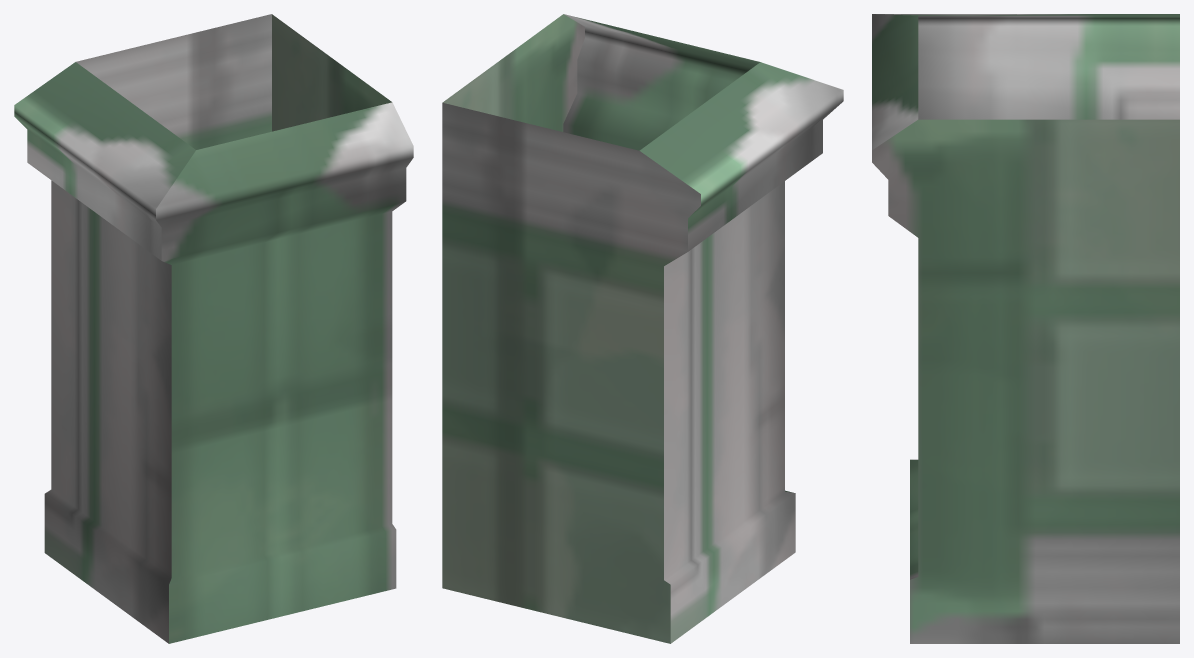
Rendered from qVin_Buld1_ColumnLeft.fbx.
3 renders of one model, left to right at view 1: azimuth 30°, elevation 25°; view 2: azimuth 150°, elevation 25°; view 3: azimuth 270°, elevation 25°, orthographic. The views are drawn at different scales.
Visible parts, largest first — view 1: qVin_Buld1_ColumnLeft; view 2: qVin_Buld1_ColumnLeft; view 3: qVin_Buld1_ColumnLeft.
Part boxes in pixels (x1,y1,x2,y2): qVin_Buld1_ColumnLeft: [14, 14, 413, 643]; qVin_Buld1_ColumnLeft: [442, 14, 843, 643]; qVin_Buld1_ColumnLeft: [872, 14, 1179, 643].
Size of the model in its own units: 140 by 251 by 133.
Materials: 1 (1 with a texture image).
